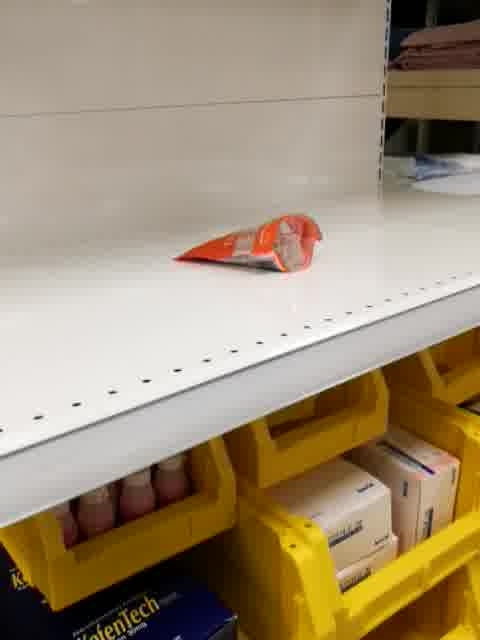whitechia: (169, 210, 325, 275)
